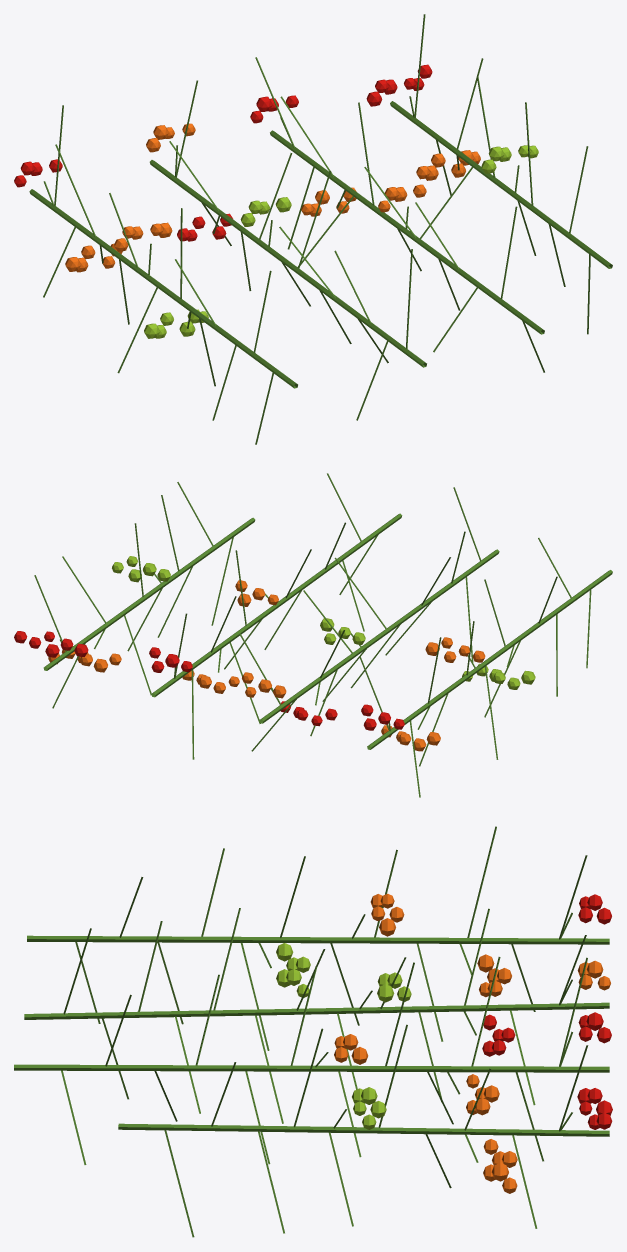
The model's file is r16c3_stems.obj.
The picture shows the model from 3 angles, top to bottom: view 1: azimuth 30°, elevation 25°; view 2: azimuth 150°, elevation 25°; view 3: azimuth 270°, elevation 25°; orthographic projection. The views are drawn at different scales.
Visible parts, largest first — view 1: r16c3_stems; view 2: r16c3_stems; view 3: r16c3_stems.
Boxes of the visible parts, box(x1,y1,x2,y2) form: r16c3_stems: box(14, 14, 612, 444); r16c3_stems: box(14, 473, 612, 797); r16c3_stems: box(14, 826, 612, 1237).
Size of the model in its own units: 2.08 by 0.8601 by 2.25.
